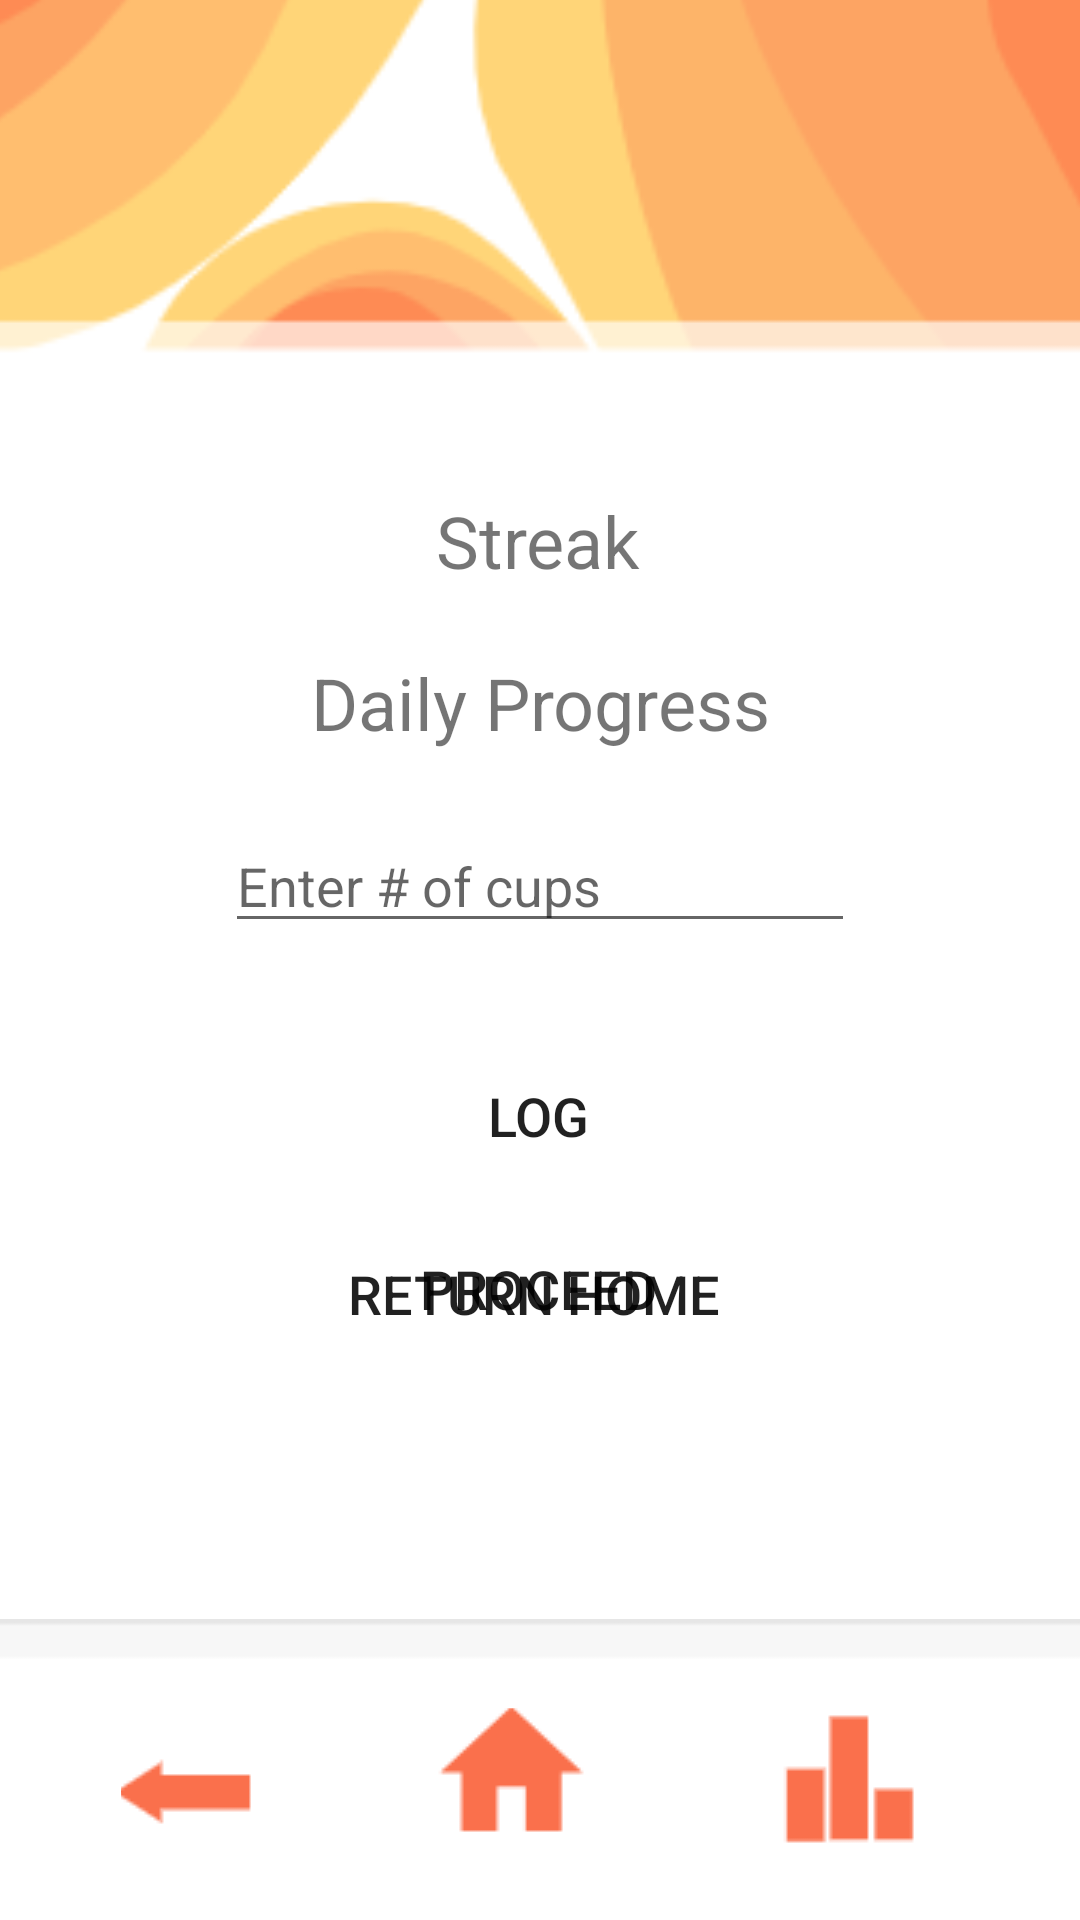

Locate icon controls on the screen. Image size 1080 x 1920, boxes as (x1, y1, x2, y2).
home: (441, 1708, 583, 1832)
leaderboard: (786, 1715, 914, 1843)
